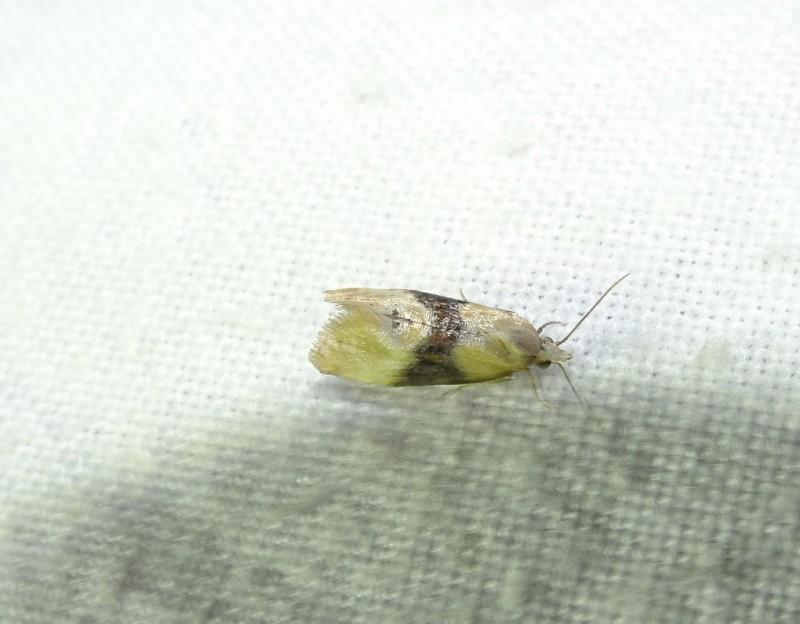Eupoecilia Ambiguella: (306, 269, 632, 417)
